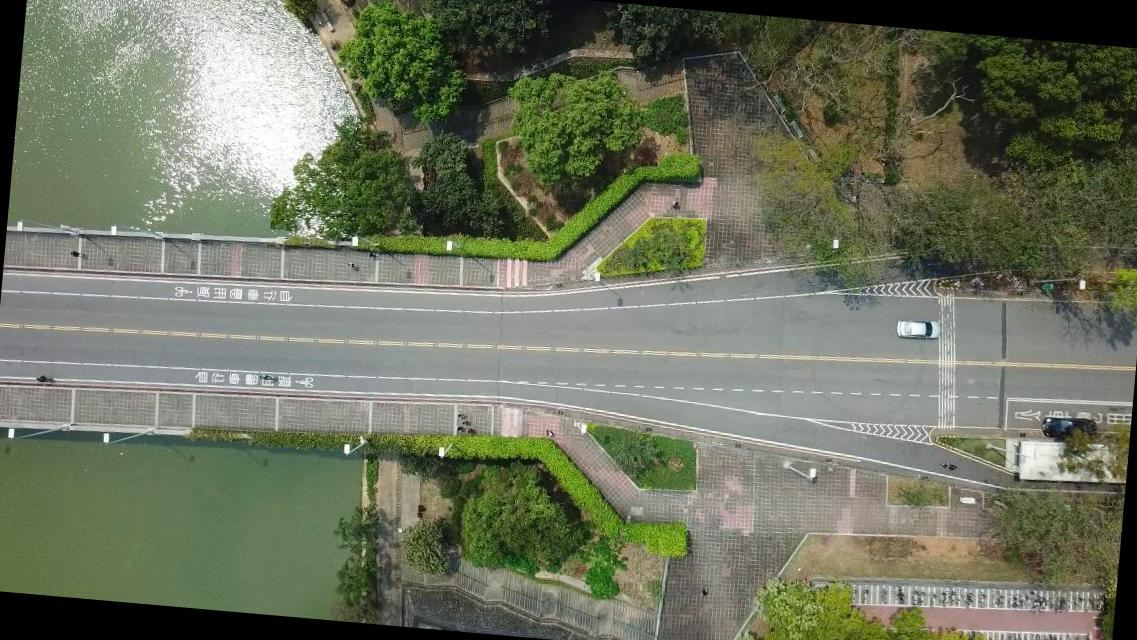vehicle: (1040, 414, 1096, 442), (894, 316, 940, 342)
